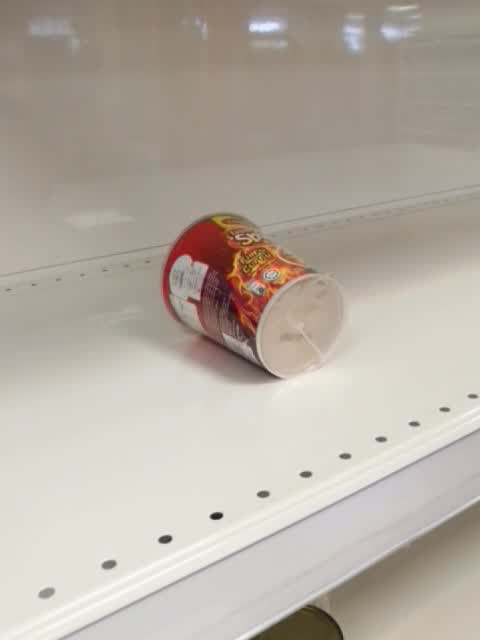maggi: (160, 211, 348, 382)
